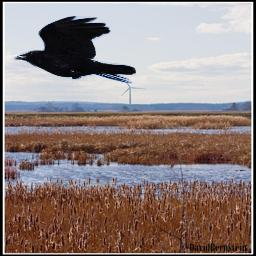Crow: (14, 16, 137, 84)
